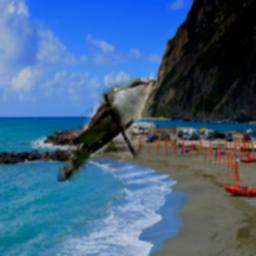Cuckoo: (59, 79, 155, 183)
